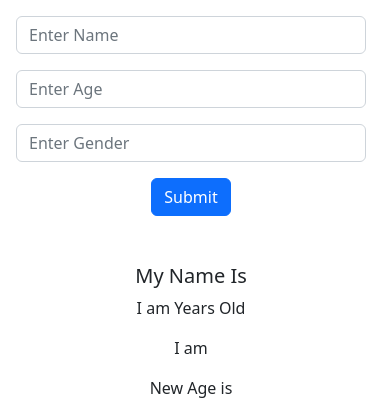
change age
The width and height of the screenshot is (383, 415).
In the field with test id "parson-age": (191, 89) [16, 70, 366, 108], type "22"
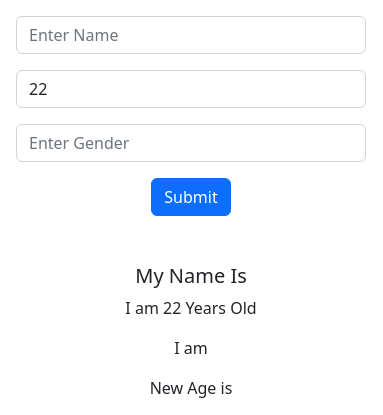
Result: the text with test id "age" reads "I am 22 Years Old" at [125, 297, 257, 319]
